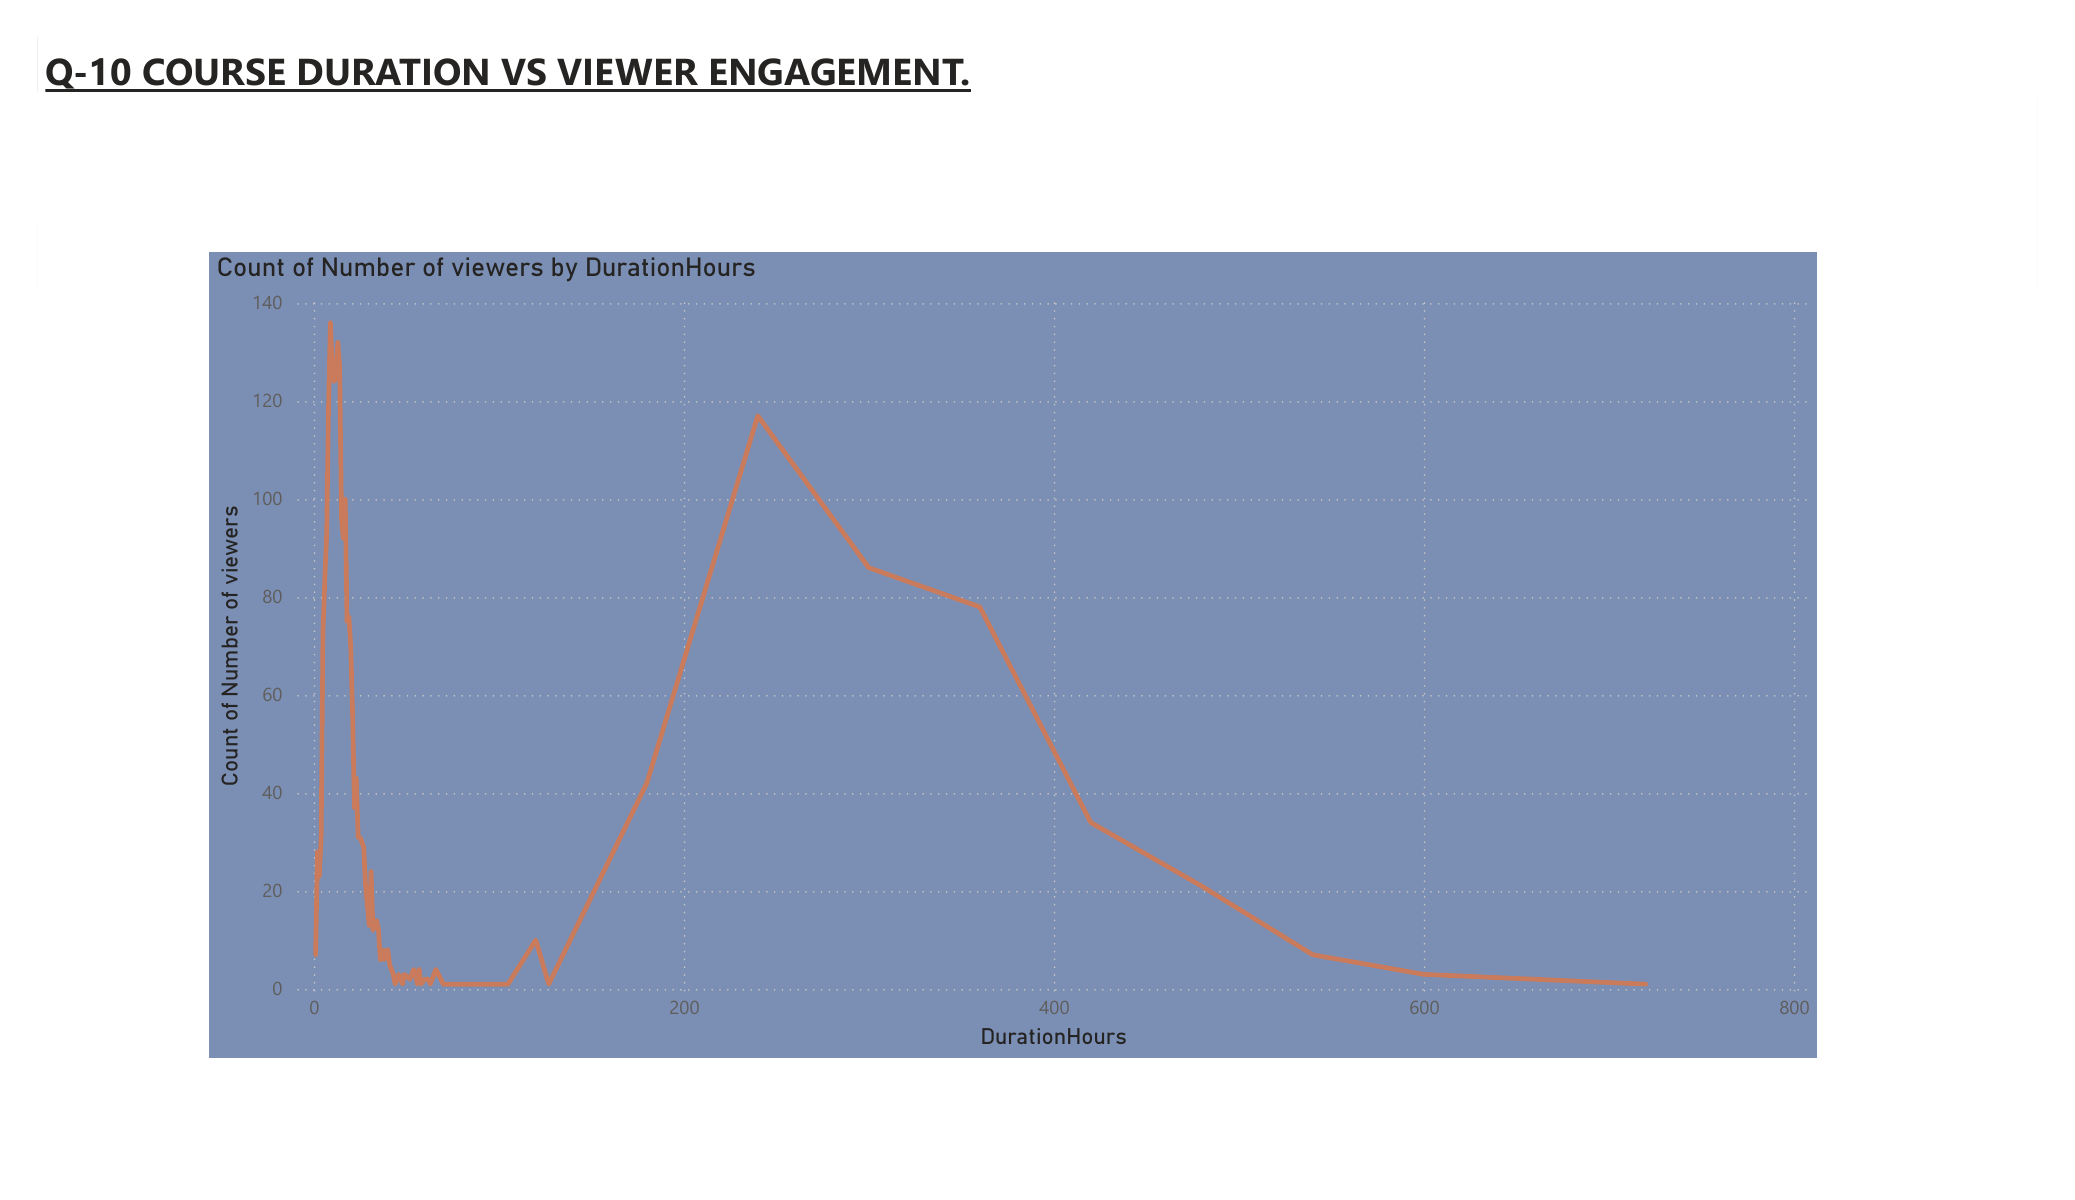

What the dashboard file says about the page in this screenshot:
{"tool":"powerbi","page":{"name":"Q-10","canvas":[1280,720],"ordinal":10},"visuals":[{"type":"lineChart","fields":{"Category":["Online_Courses.DurationHours"],"Y":["CountNonNull(Online_Courses.Number of viewers)"]},"box":[109.8,137.2,1029.2,516],"z":0},{"type":"textbox","box":[0,0,660,118],"z":1000}]}

Visuals, with their boxes on the page's 1280x720 design canvas (x1, y1, x2, y2). These are canvas units, not pixel positions in the 2075x1200 screenshot, which may show the page scaled, cropped or inside an application window:
lineChart - Online_Courses.DurationHours x CountNonNull(Online_Courses.Number of viewers): (left=110, top=137, right=1139, bottom=653)
textbox: (left=0, top=0, right=660, bottom=118)
